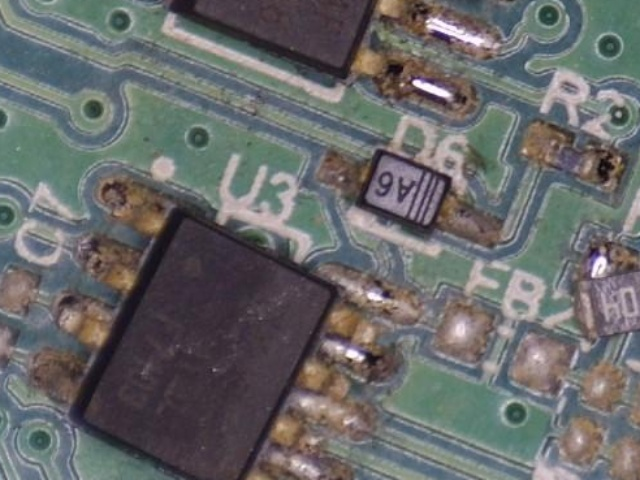pcb_defect: (31, 173, 425, 480), (566, 233, 640, 340)
